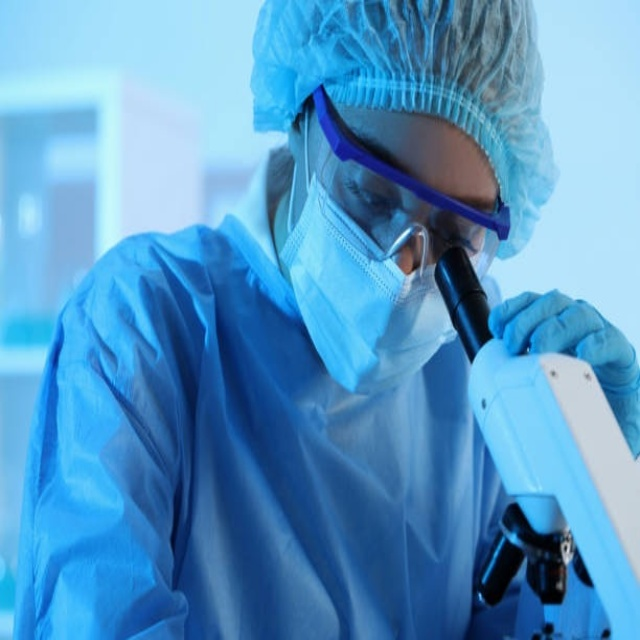Gafas: (310, 82, 508, 250)
Guantes: (492, 290, 639, 465)
Mascara: (279, 105, 475, 394)
